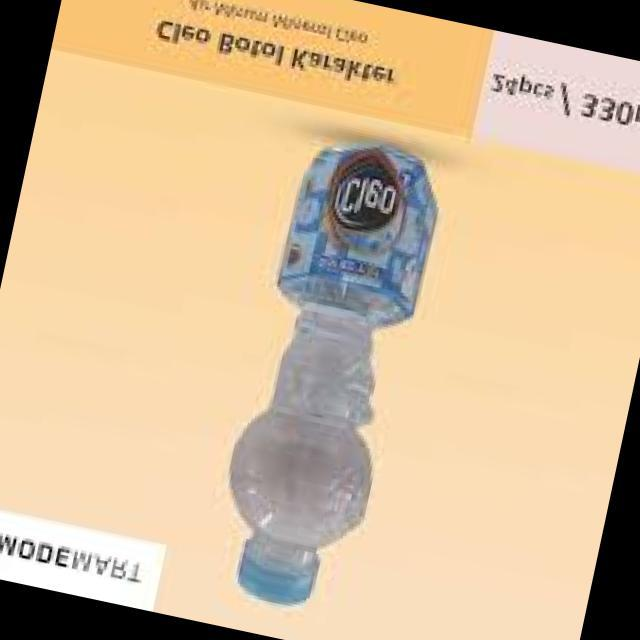good: (125, 121, 501, 640)
